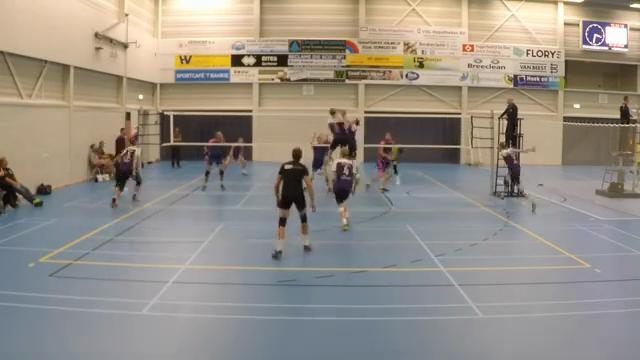Player: (272, 147, 314, 259), (332, 147, 358, 230), (111, 138, 141, 207), (499, 142, 535, 198), (202, 131, 228, 190), (377, 133, 393, 191), (311, 133, 328, 186), (228, 137, 247, 175), (391, 146, 403, 184)
Set: (336, 115, 366, 177)
